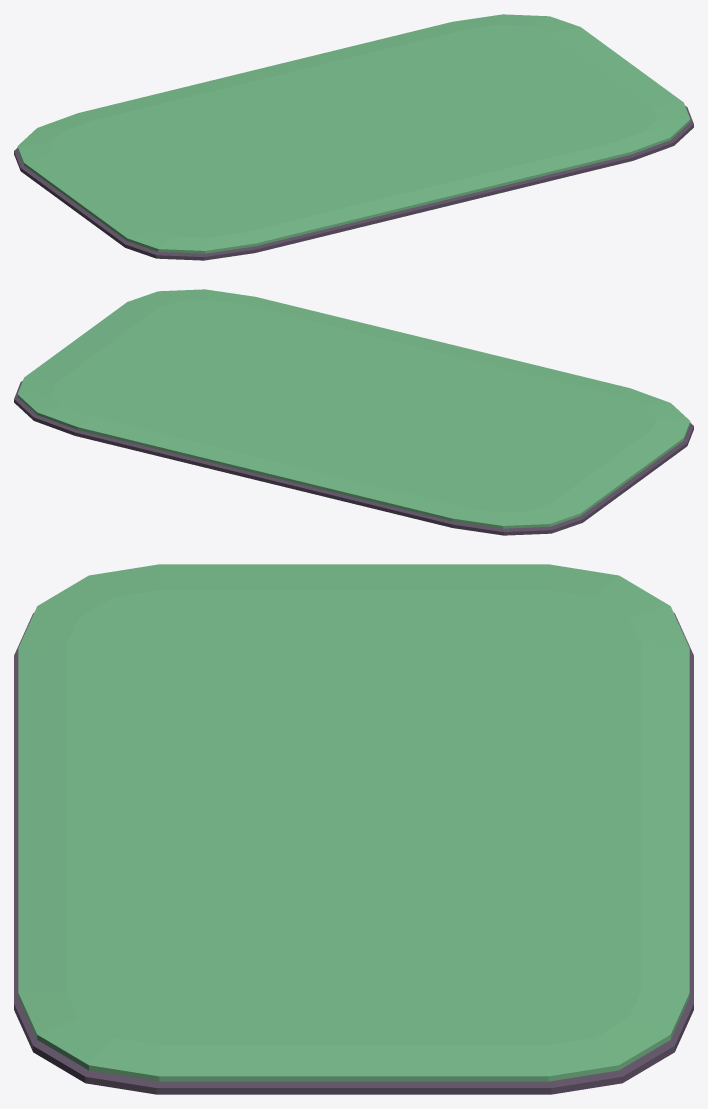
File: ground_island.glb
3 renders of one model, top to bottom at view 1: azimuth 30°, elevation 25°; view 2: azimuth 150°, elevation 25°; view 3: azimuth 270°, elevation 25°, orthographic. The views are drawn at different scales.
Parts seen in each view (by area): view 1: model; view 2: model; view 3: model.
Boxes of the visible parts, <box> form: model: <box>14,14,693,260</box>; model: <box>14,289,693,535</box>; model: <box>14,564,693,1094</box>.
Bounding box in the file's own units: 18 × 0.35 × 10.
